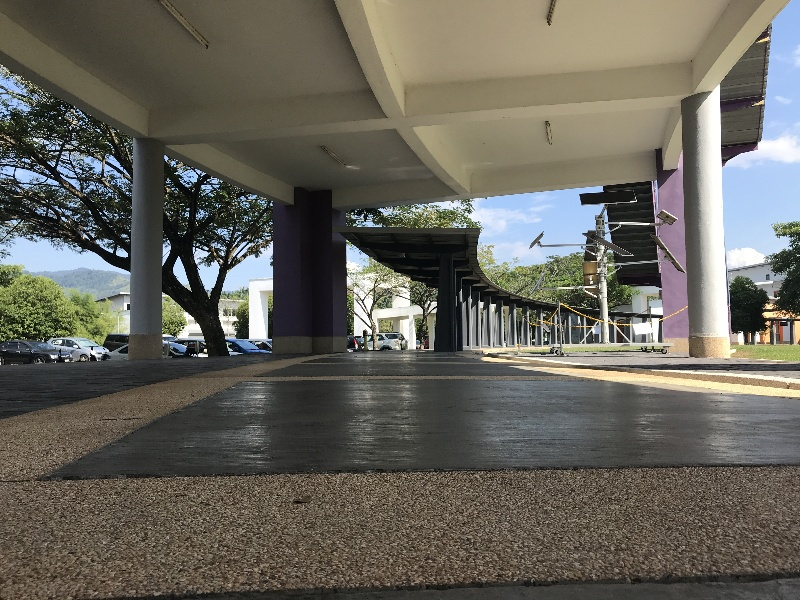Block D Pillar 5: (7, 7, 800, 514)
pillar: (666, 89, 754, 371), (261, 179, 355, 366), (641, 143, 699, 362), (118, 128, 171, 364), (425, 248, 466, 357)
